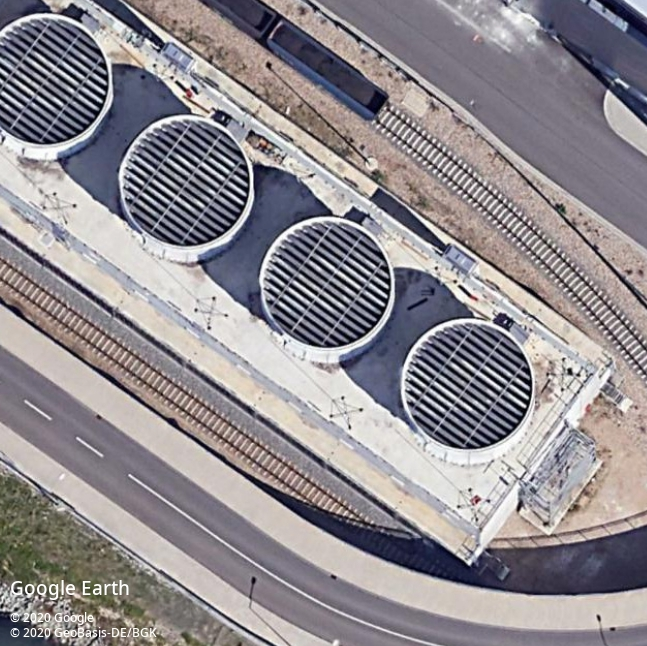Vent: (260, 217, 395, 354), (119, 115, 254, 250), (400, 319, 535, 454)
